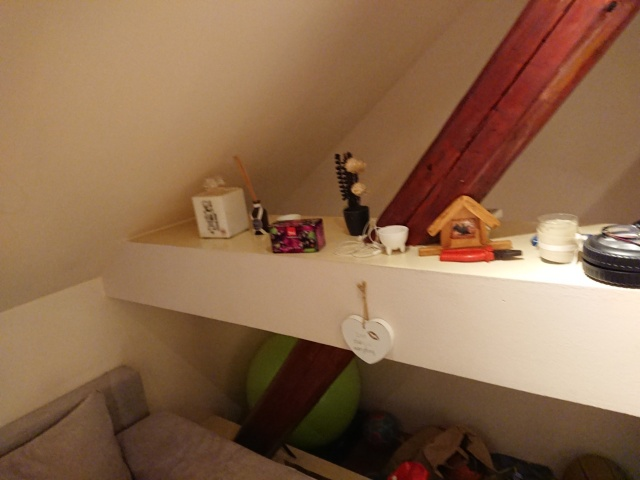Franck Black Currant Tea 60g: (265, 215, 328, 256)
